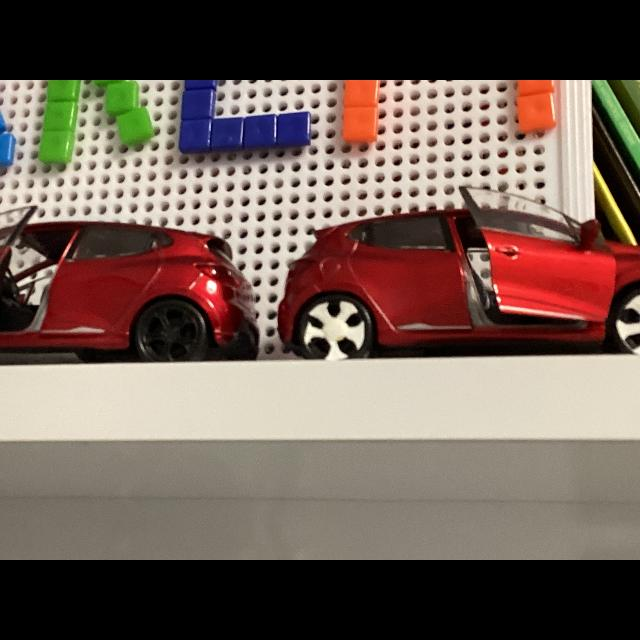Dogru_Jant: (144, 308, 200, 360)
Yanlis_Jant: (304, 298, 366, 359), (613, 294, 640, 352)
